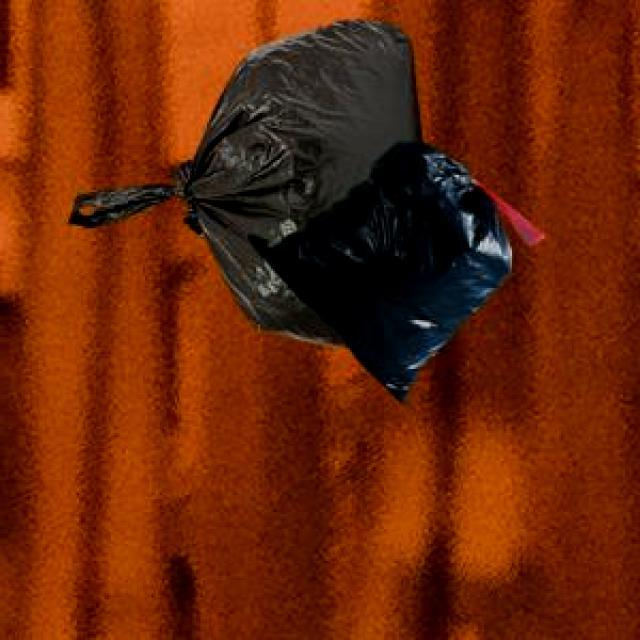Trashbag: (249, 146, 522, 406)
